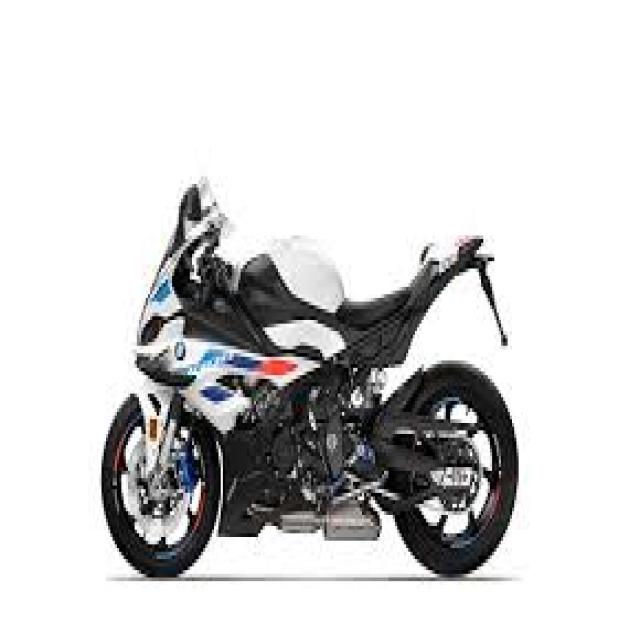MOTORCYCLE: (102, 194, 515, 579)
